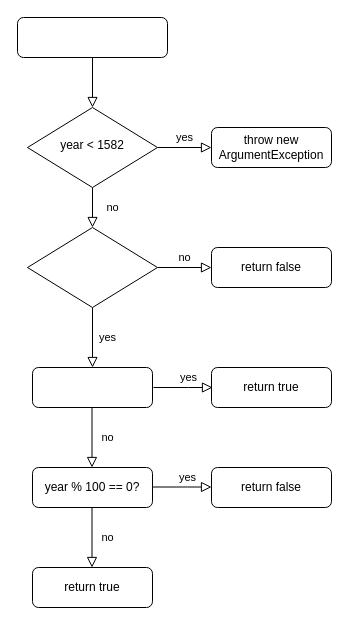
Some shapes in this 349 by 625 pixel diagram are drawn without their labels. The centre of each missing label's shape, as x and y in pixels:
bool IsLeapYear( int year ): (x=92, y=37)
year % 4 == 0?: (x=92, y=267)
year % 400 == 0?: (x=92, y=387)
